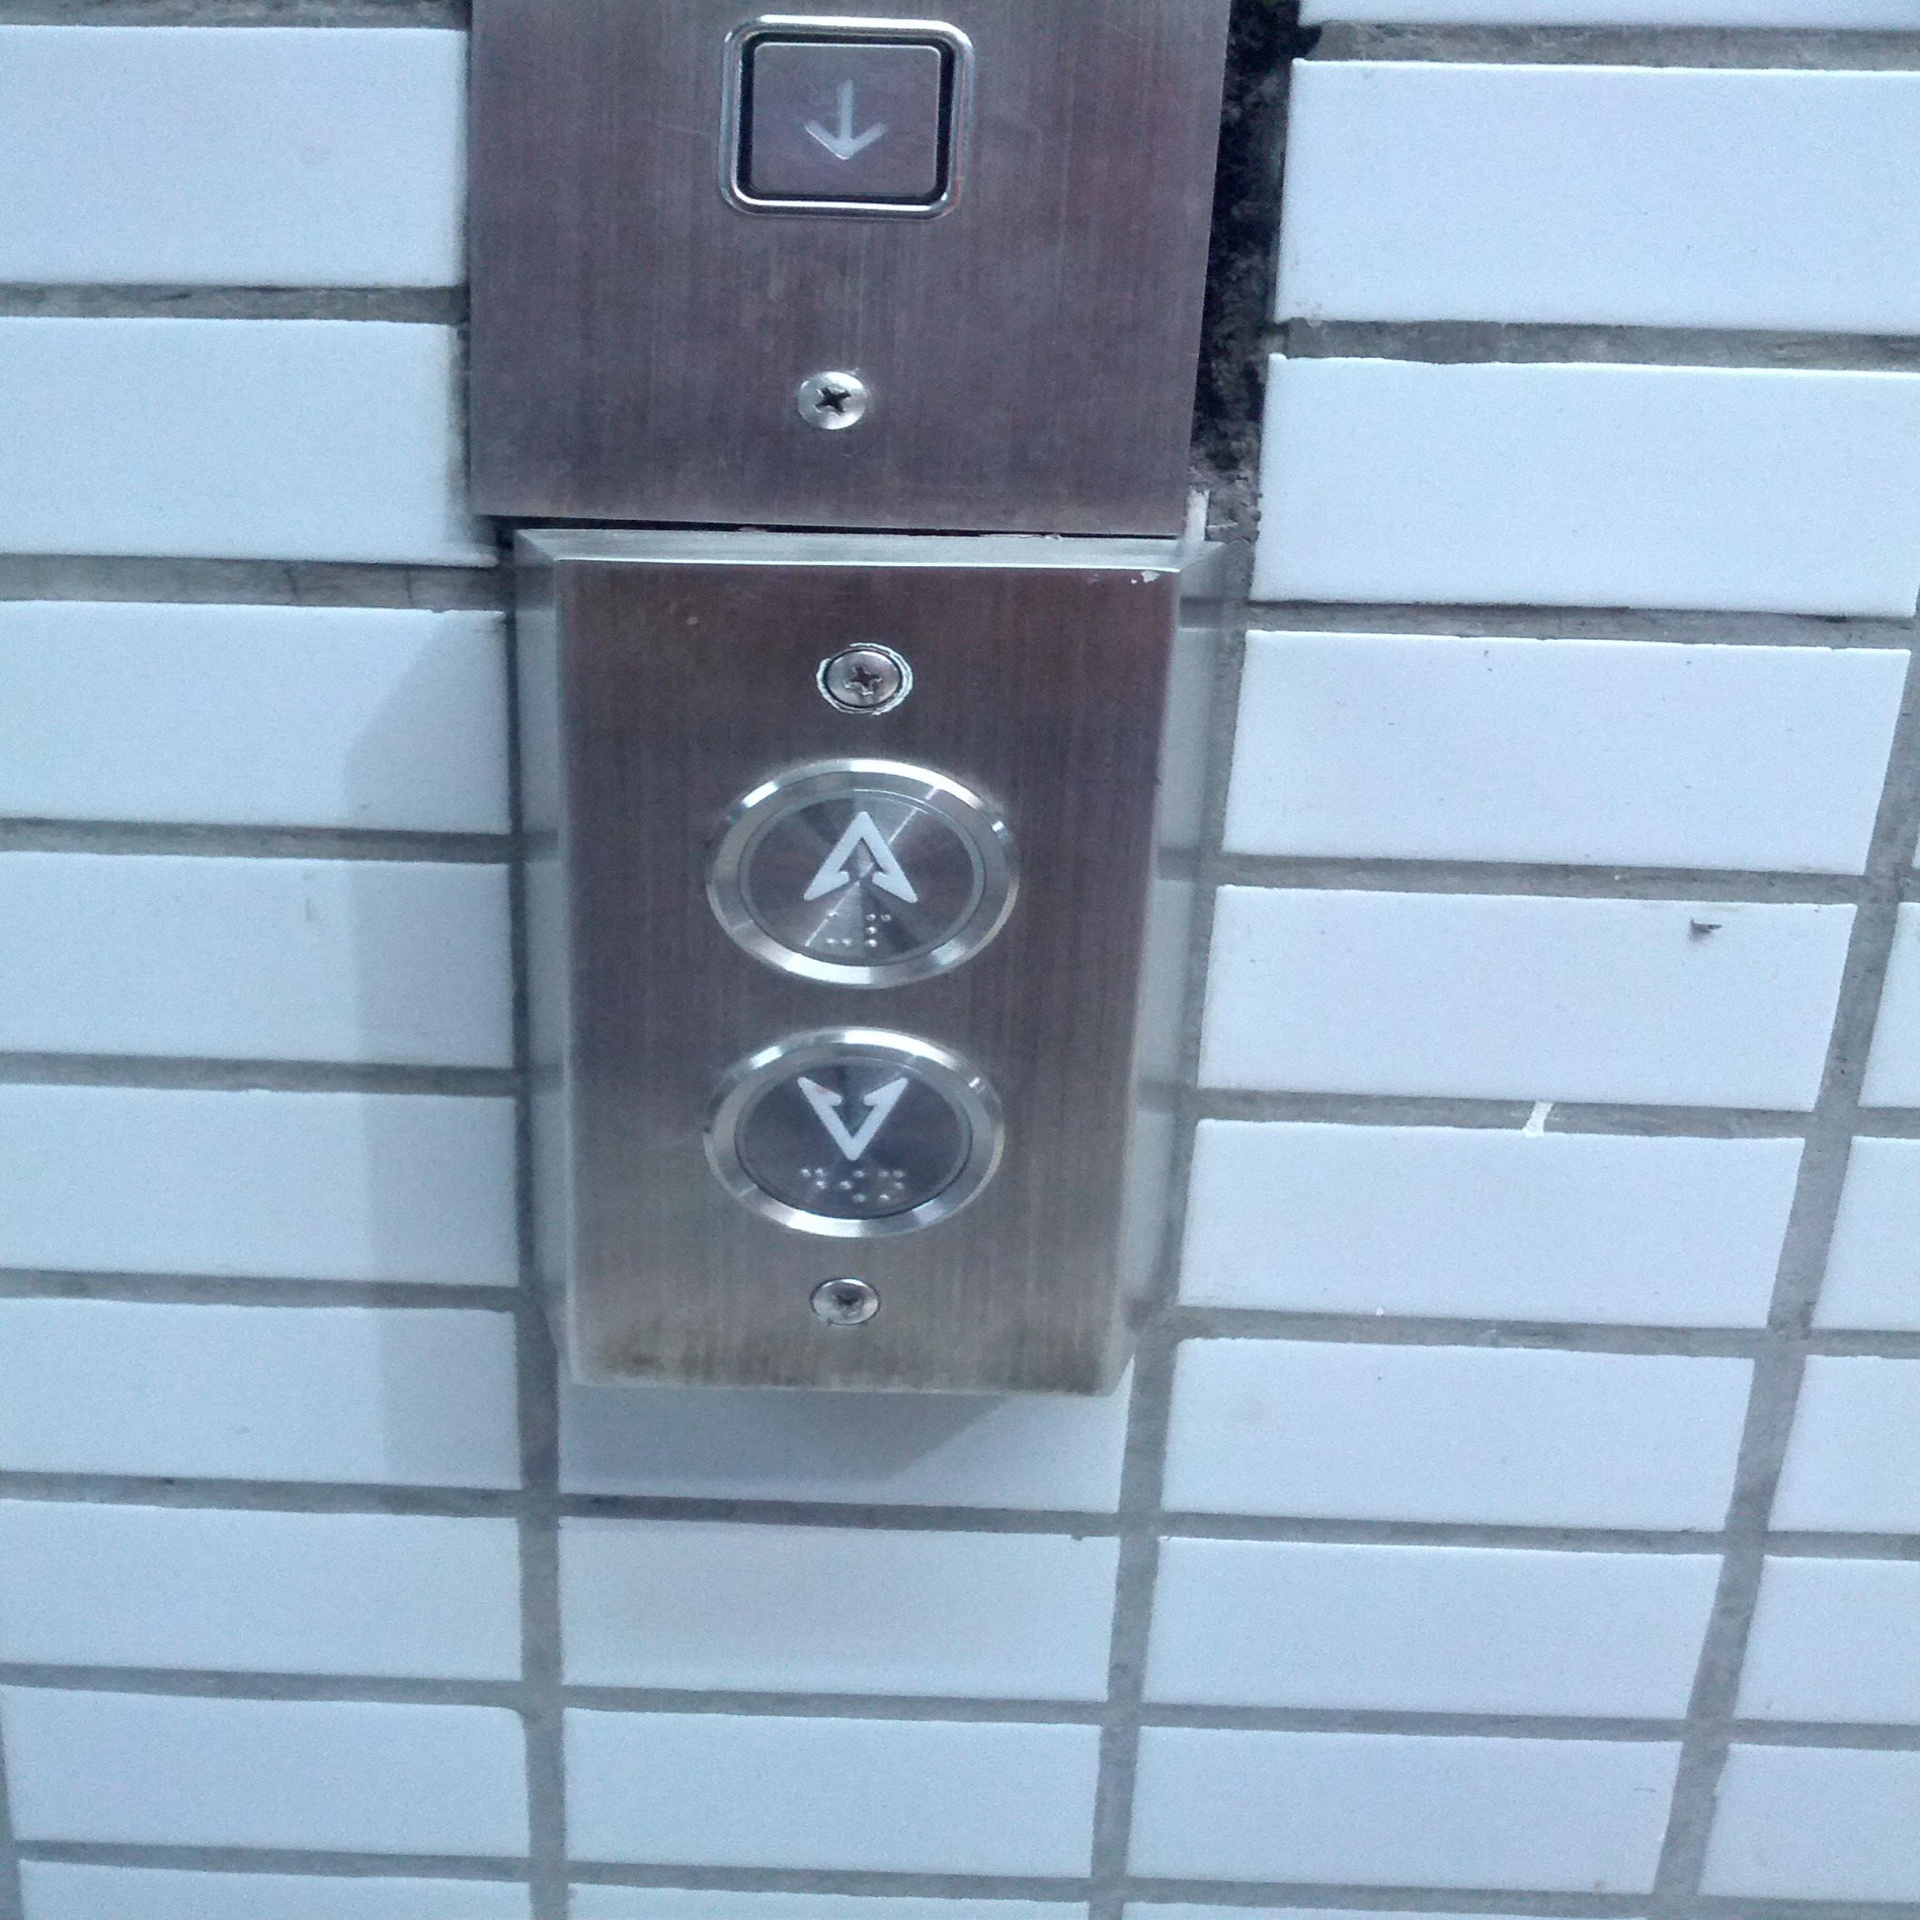down: (707, 1025, 1006, 1241), (723, 12, 972, 223)
up: (695, 754, 1020, 986)
